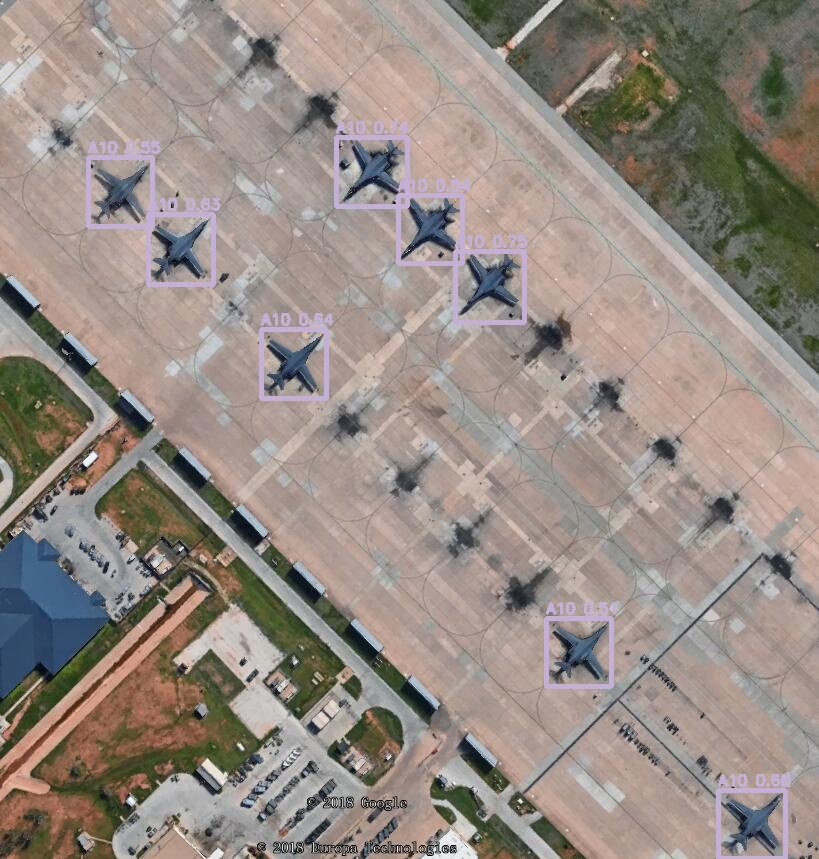A10: (455, 251, 524, 322), (336, 137, 407, 206), (718, 790, 785, 858), (148, 214, 213, 284), (261, 329, 326, 398), (546, 618, 611, 686), (88, 157, 152, 226), (398, 195, 462, 263)
